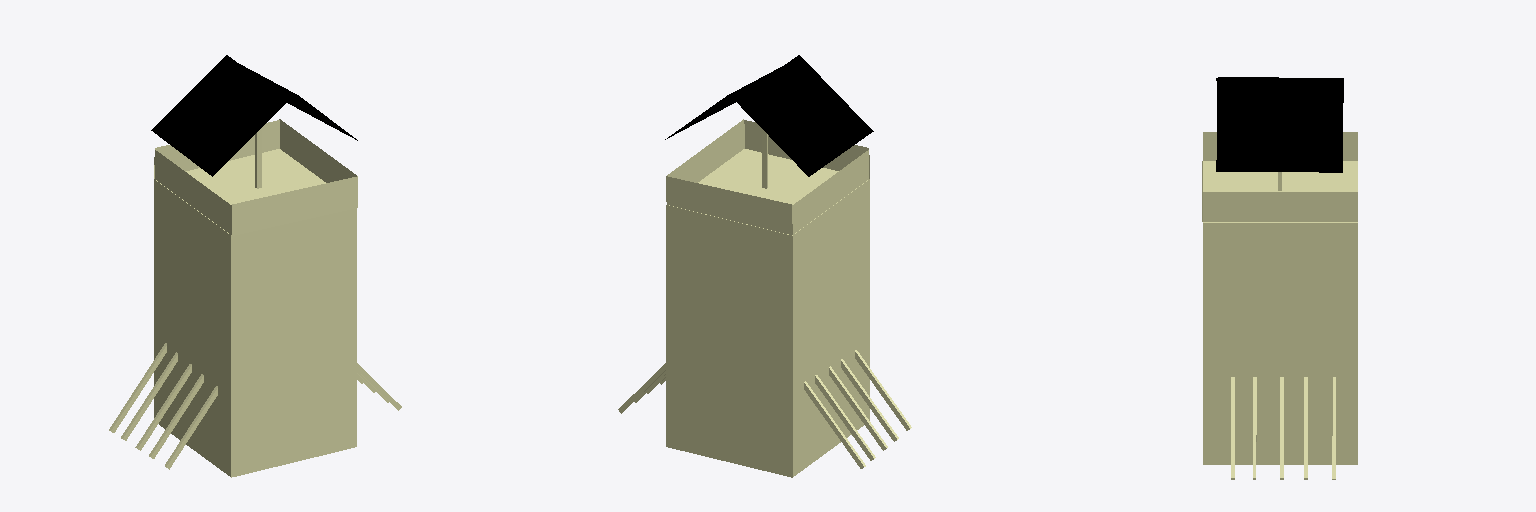
File: fort.obj
3 renders of one model, left to right at view 1: azimuth 30°, elevation 25°; view 2: azimuth 150°, elevation 25°; view 3: azimuth 270°, elevation 25°, orthographic.
Visible parts, largest first — view 1: Cube.001_Cube.002, Cube_Cube.001, Plane.005, Plane.003, Plane, Plane.001, Plane.002, Plane.010, Cube.011_Cube.012, Cube.010_Cube.011, Cube.013_Cube.014, Cube.009_Cube.010 (+1 smaller); view 2: Cube.001_Cube.002, Cube_Cube.001, Plane.005, Plane.002, Plane, Plane.001, Plane.003, Plane.010, Cube.011_Cube.012, Cube.010_Cube.011, Cube.013_Cube.014, Cube.009_Cube.010 (+1 smaller); view 3: Cube.001_Cube.002, Cube_Cube.001, Plane.010, Plane.001, Plane.
Part boxes in pixels (x1,y1,x2,y2): Cube.001_Cube.002: (154,149,356,348); Cube_Cube.001: (154,293,356,477); Plane.005: (151,55,287,176); Plane.003: (231,176,357,235); Plane: (154,150,231,234); Plane.001: (279,119,356,182); Plane.002: (154,120,279,178); Plane.010: (226,57,357,140); Cube.011_Cube.012: (109,343,166,432); Cube.010_Cube.011: (121,352,177,440); Cube.013_Cube.014: (135,364,191,450); Cube.009_Cube.010: (149,374,203,458); Cube.001_Cube.002: (666,149,869,349); Cube_Cube.001: (666,293,869,477); Plane.005: (735,55,873,176); Plane.002: (666,176,792,234); Plane: (792,150,868,234); Plane.001: (667,119,744,182); Plane.003: (744,120,869,178); Plane.010: (665,57,799,139); Cube.011_Cube.012: (804,381,865,468); Cube.010_Cube.011: (815,375,875,460); Cube.013_Cube.014: (829,366,887,450); Cube.009_Cube.010: (841,359,898,441); Cube.001_Cube.002: (1203,161,1357,335); Cube_Cube.001: (1203,336,1357,464); Plane.010: (1216,77,1343,172); Plane.001: (1203,192,1357,221); Plane: (1203,132,1357,160).
Bounding box in the file's own units: 2.1 × 2.93 × 1.15.